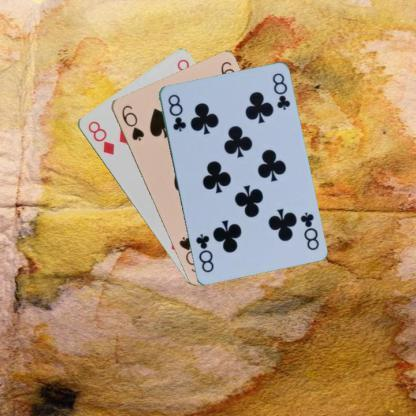6s: (118, 102, 146, 142)
8c: (164, 91, 188, 133), (297, 209, 320, 251)
8d: (84, 118, 116, 156)
